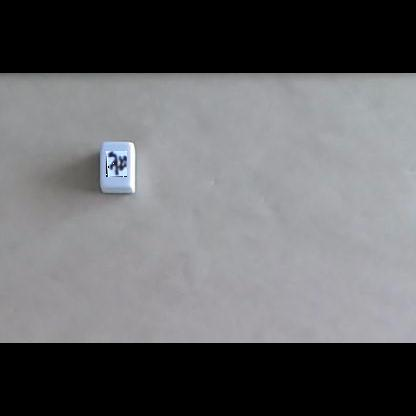4z: (106, 151, 127, 177)
